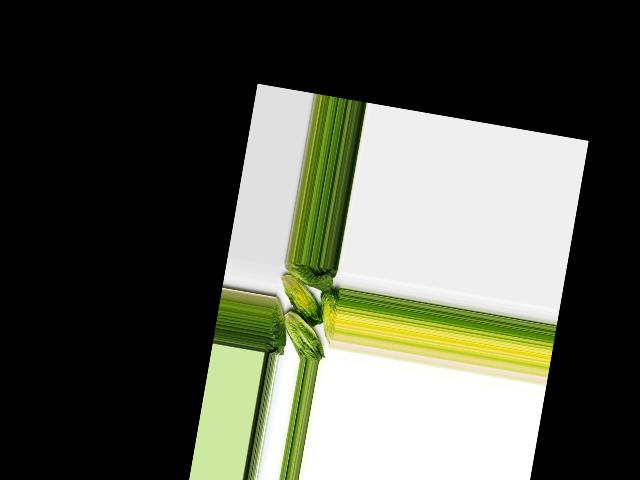lettuce: (282, 260, 338, 294)
